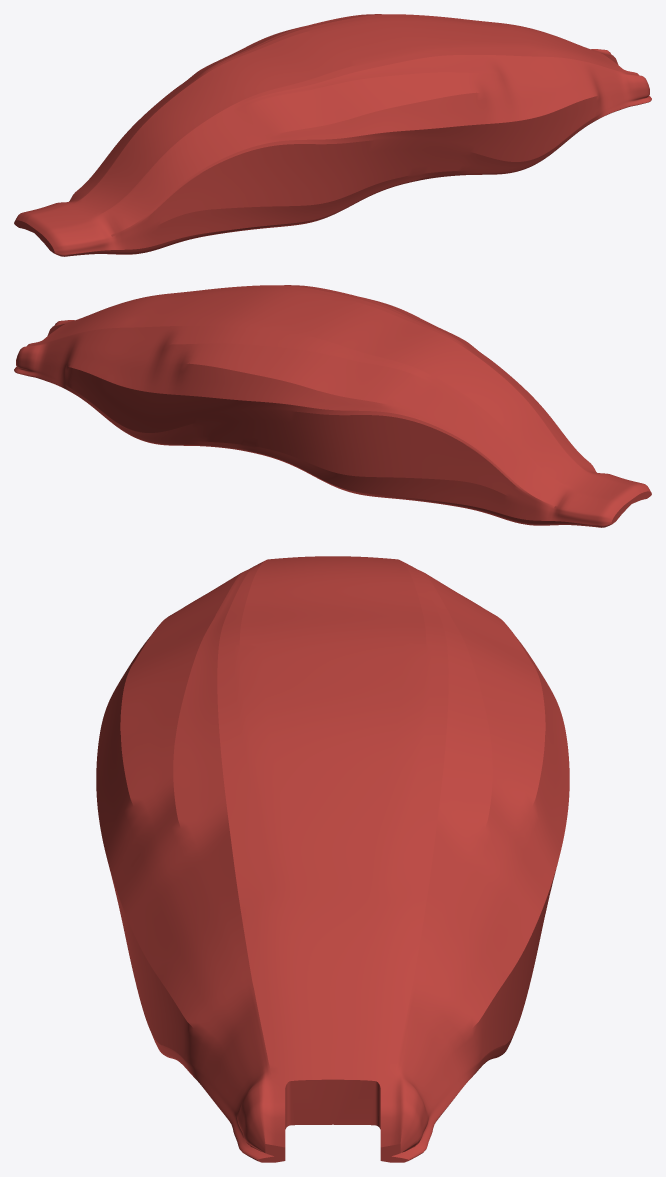
File: sports_tourer_4.glb
3 views of the same model, one above another, from view 1: azimuth 30°, elevation 25°; view 2: azimuth 150°, elevation 25°; view 3: azimuth 270°, elevation 25° (orthographic). The views are drawn at different scales.
Visible parts, largest first — view 1: sports_tourer_4; view 2: sports_tourer_4; view 3: sports_tourer_4.
Part boxes in pixels (x1,y1,x2,y2): sports_tourer_4: (14, 14, 651, 256); sports_tourer_4: (14, 285, 651, 527); sports_tourer_4: (96, 556, 569, 1162).
Size of the model in its own units: 1.29 by 0.2782 by 0.4401.
